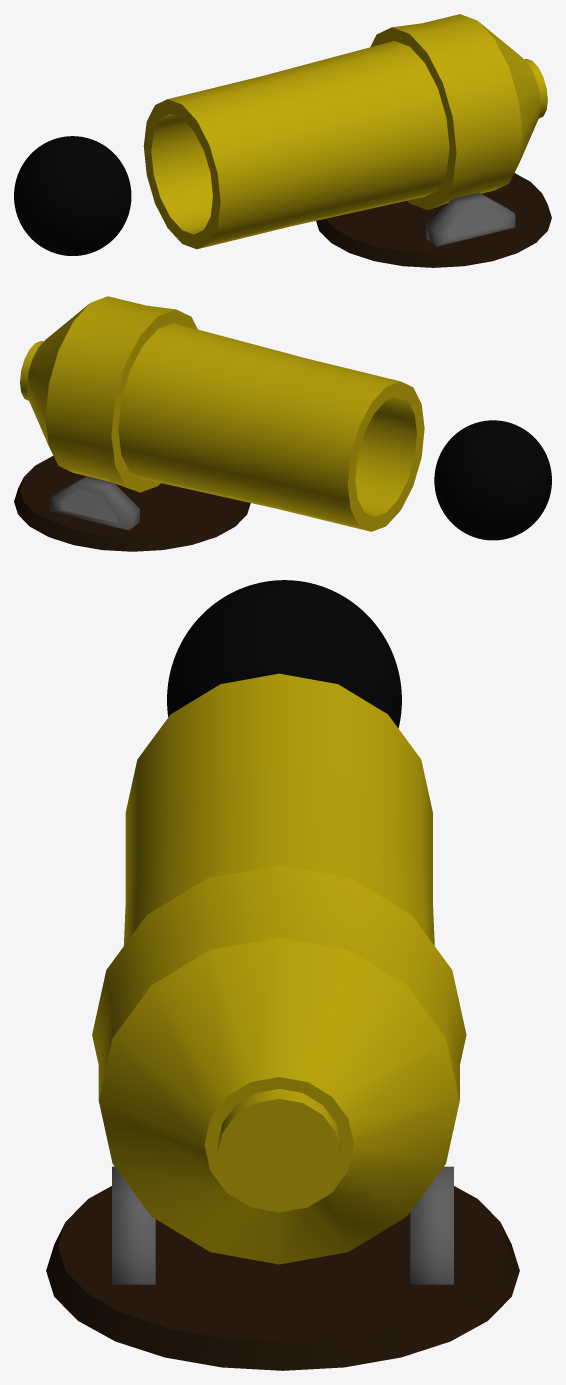
Rendered from Canon.fbx.
3 renders of one model, top to bottom at view 1: azimuth 30°, elevation 25°; view 2: azimuth 150°, elevation 25°; view 3: azimuth 270°, elevation 25°, orthographic. The views are drawn at different scales.
Parts seen in each view (by area): view 1: Cañon, Sphere, Soporte, Base Cañon; view 2: Cañon, Sphere, Soporte, Base Cañon; view 3: Cañon, Soporte, Sphere, Base Cañon.
Part boxes in pixels (<box>): Cañon: <box>143,14,547,249</box>; Sphere: <box>14,136,131,255</box>; Soporte: <box>316,173,551,267</box>; Base Cañon: <box>426,192,515,246</box>; Cañon: <box>20,296,424,531</box>; Sphere: <box>434,420,551,540</box>; Soporte: <box>14,455,250,551</box>; Base Cañon: <box>50,476,139,530</box>; Cañon: <box>92,673,466,1264</box>; Soporte: <box>46,1186,519,1370</box>; Sphere: <box>167,580,401,728</box>; Base Cañon: <box>112,1166,453,1284</box>.
Bounding box in the file's own units: 501 × 178 × 200.
